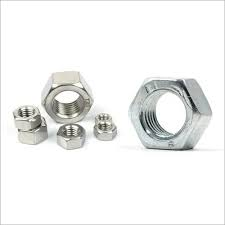Thread: (127, 84, 193, 142), (46, 88, 89, 122), (59, 124, 85, 141), (19, 107, 36, 121), (94, 114, 111, 128)
